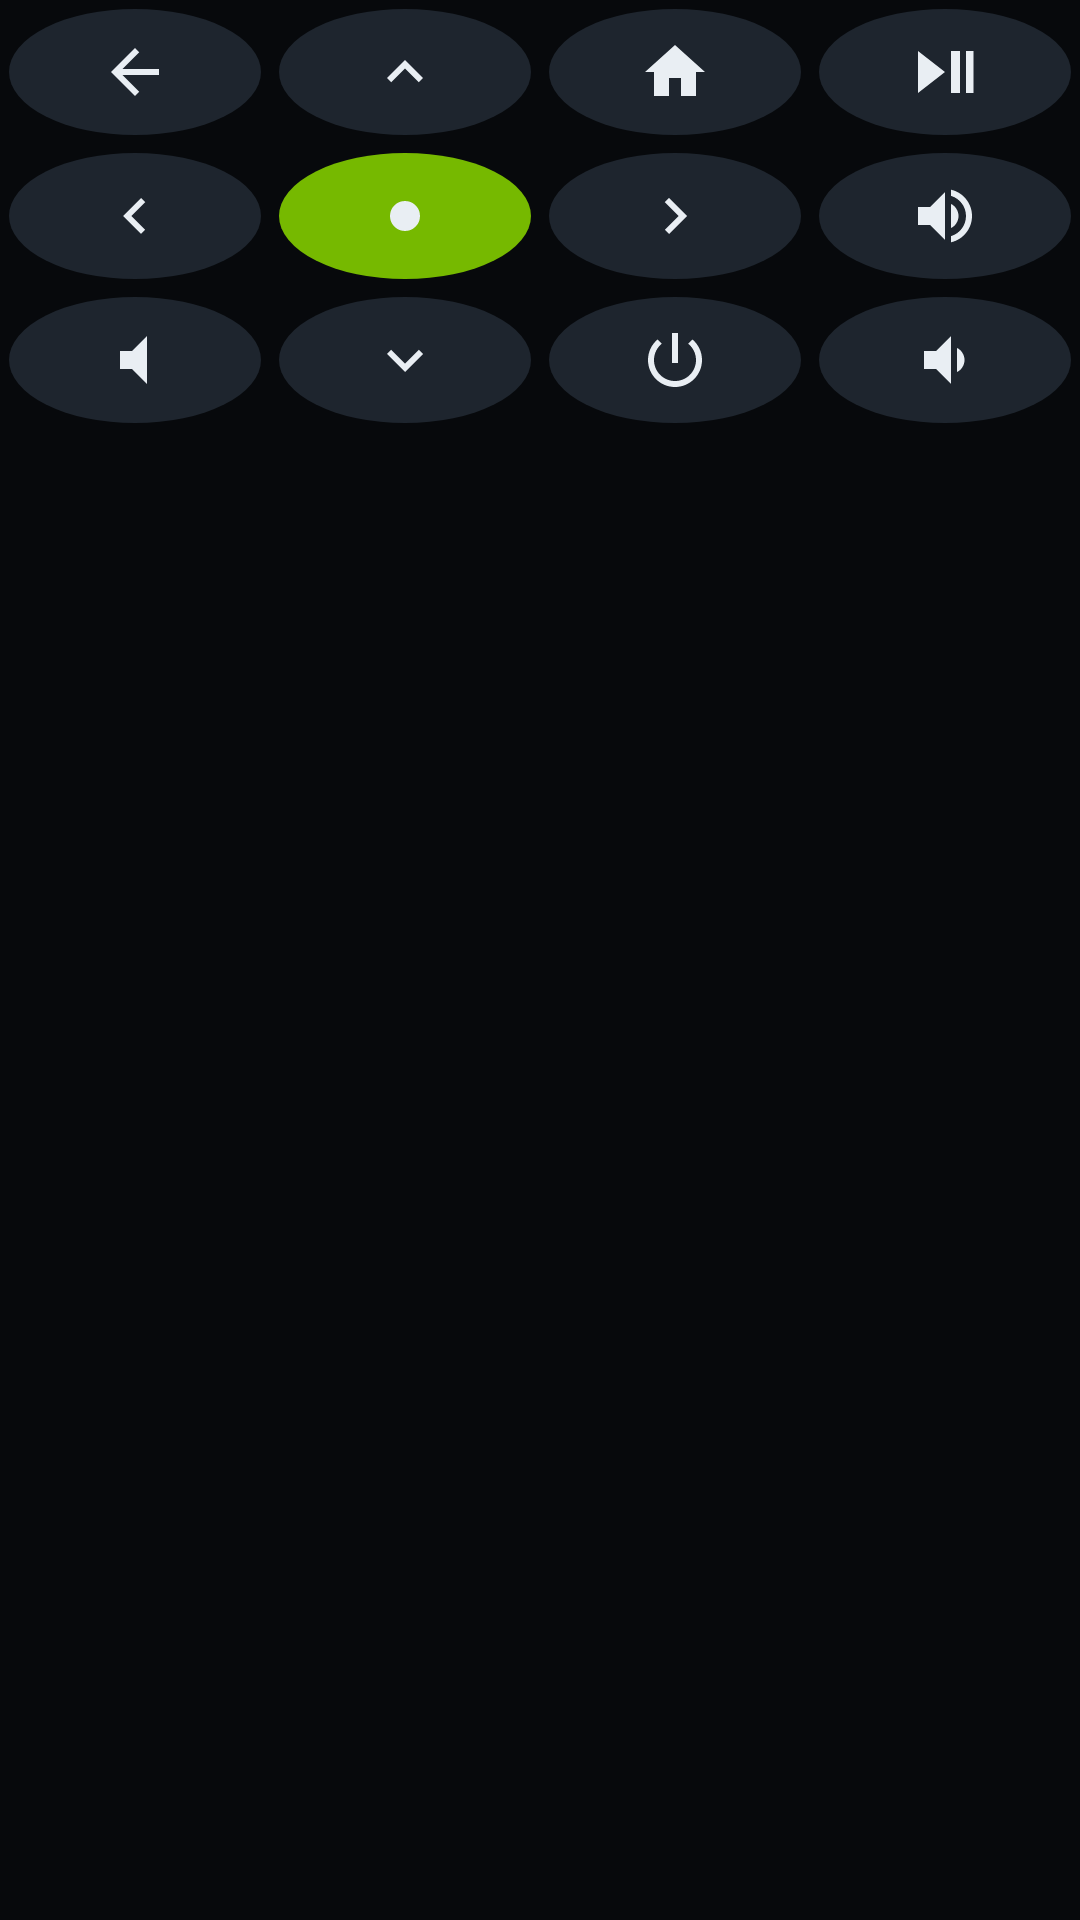

Named icons in this screenshot (1080px×1920px) and their centers, point (x, y):
back: point (135, 72)
down: point (405, 360)
home: point (675, 72)
left: point (135, 216)
playpause: point (945, 72)
power: point (675, 360)
right: point (675, 216)
voldown: point (945, 360)
volup: point (945, 216)
